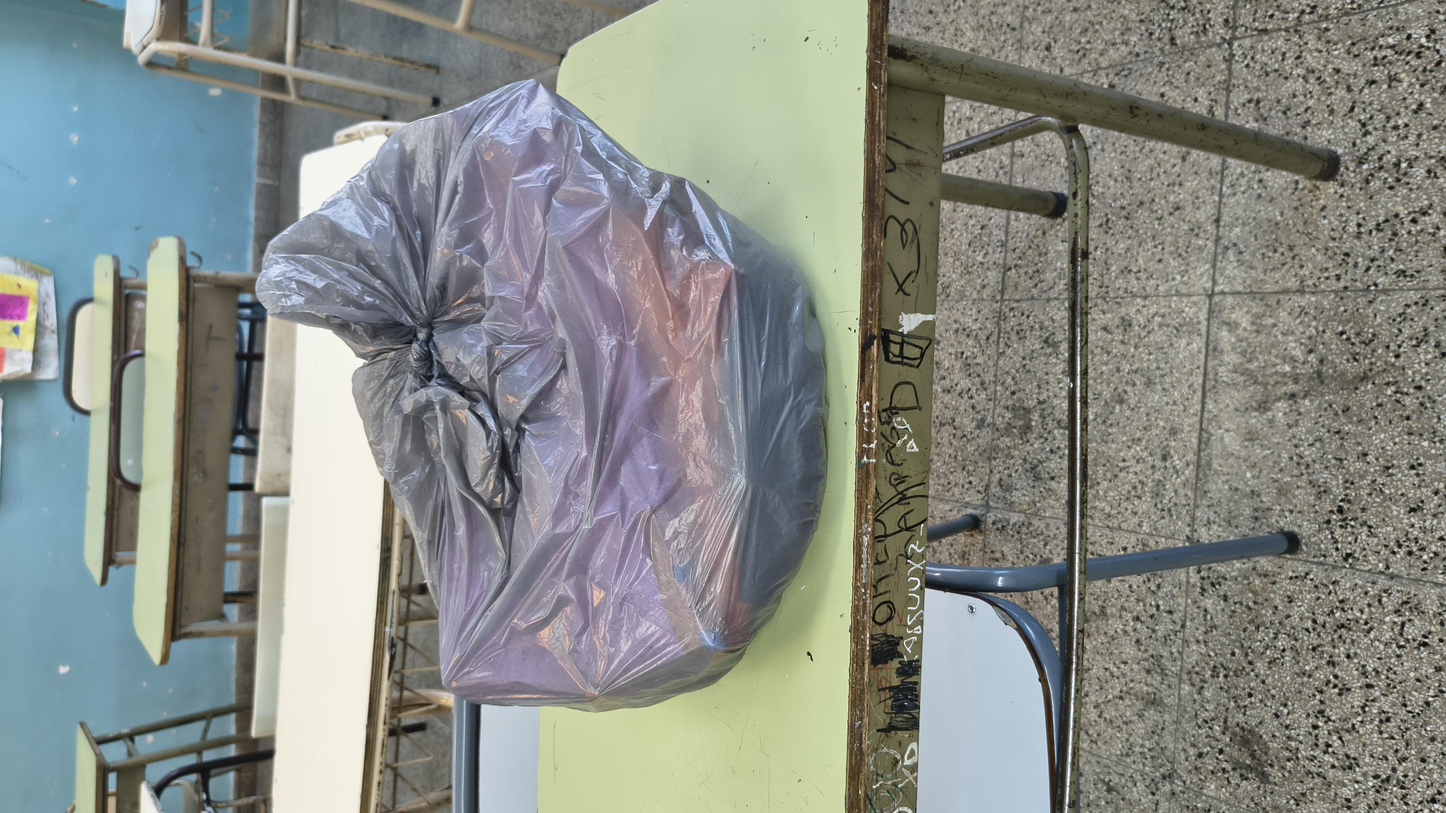Garbage: (151, 127, 1387, 482)
